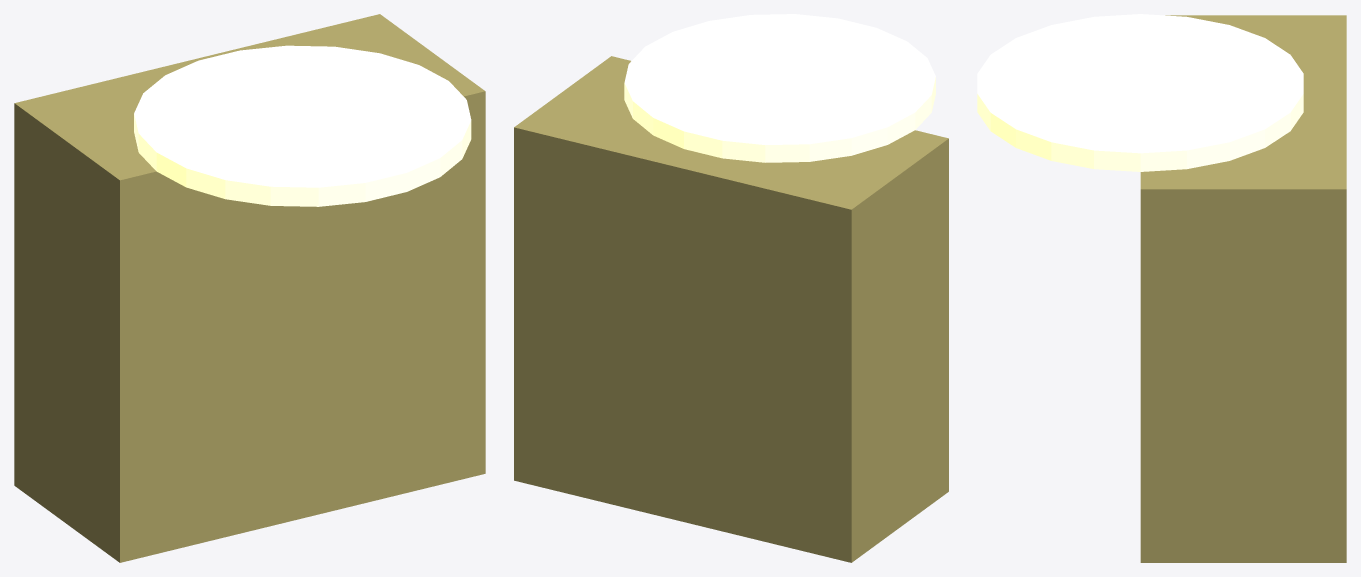
Rendered from Goal_VerticalSlab.glb.
3 renders of one model, left to right at view 1: azimuth 30°, elevation 25°; view 2: azimuth 150°, elevation 25°; view 3: azimuth 270°, elevation 25°, orthographic. The views are drawn at different scales.
Visible parts, largest first — view 1: Goal_VerticalSlab_body, glow_disc.003; view 2: Goal_VerticalSlab_body, glow_disc.003; view 3: Goal_VerticalSlab_body, glow_disc.003.
Part boxes in pixels (bbox=[...]): Goal_VerticalSlab_body: bbox=[14, 14, 485, 562]; glow_disc.003: bbox=[134, 45, 471, 206]; Goal_VerticalSlab_body: bbox=[514, 56, 948, 562]; glow_disc.003: bbox=[624, 14, 935, 162]; Goal_VerticalSlab_body: bbox=[1140, 15, 1346, 562]; glow_disc.003: bbox=[977, 14, 1303, 171].
Bounding box in the file's own units: 1 × 1.05 × 0.8959.
